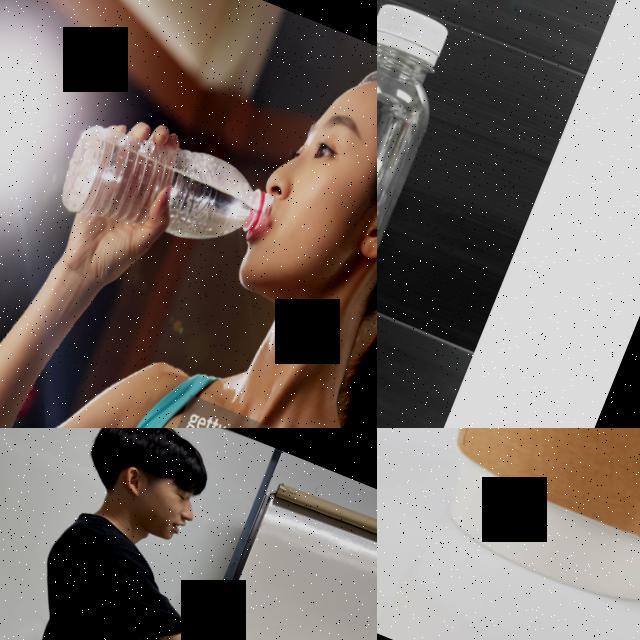bottle: (46, 106, 278, 284), (377, 0, 475, 416)
cup: (377, 428, 640, 640)
